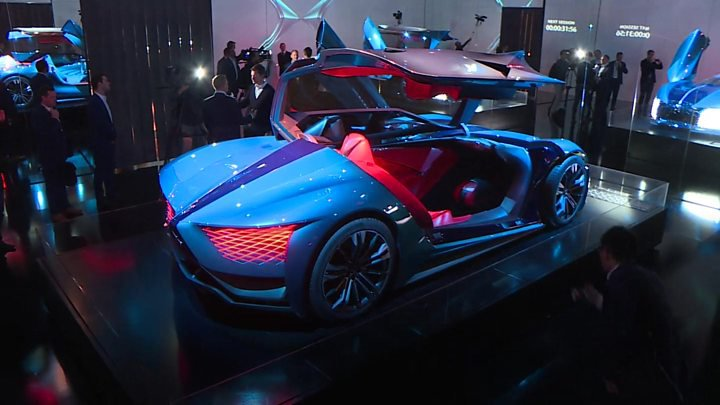car: (158, 33, 590, 318), (2, 21, 102, 100), (653, 28, 719, 134)
